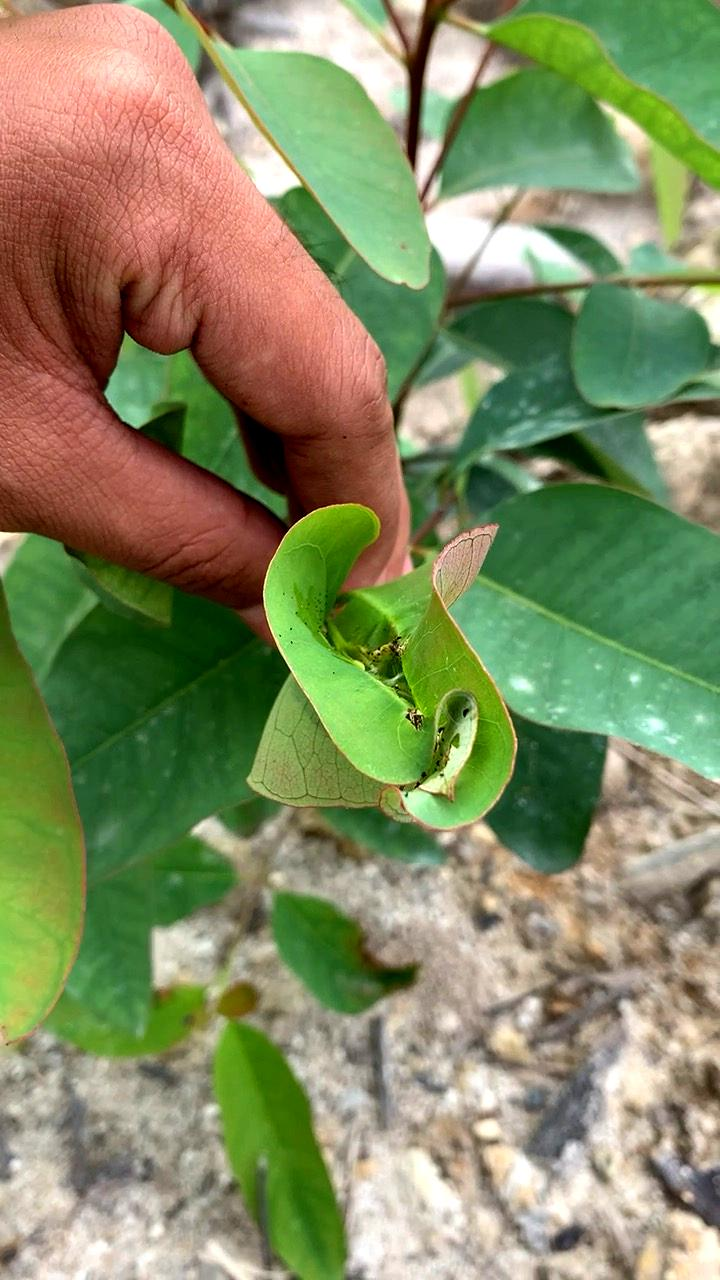Leaf Roller - Leaf: (243, 483, 545, 882)
